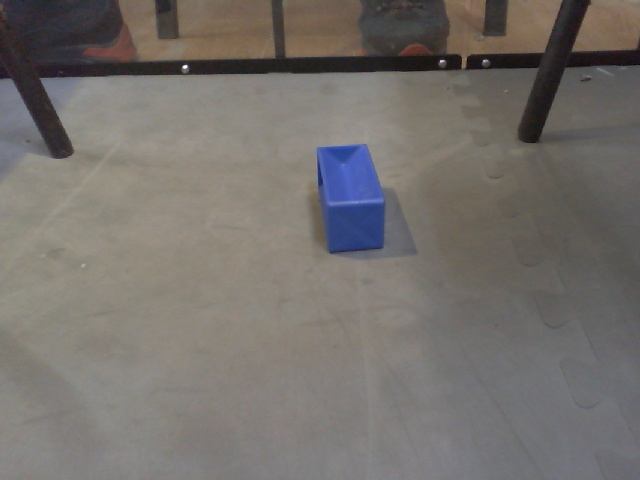BlueSample: (314, 142, 389, 257)
